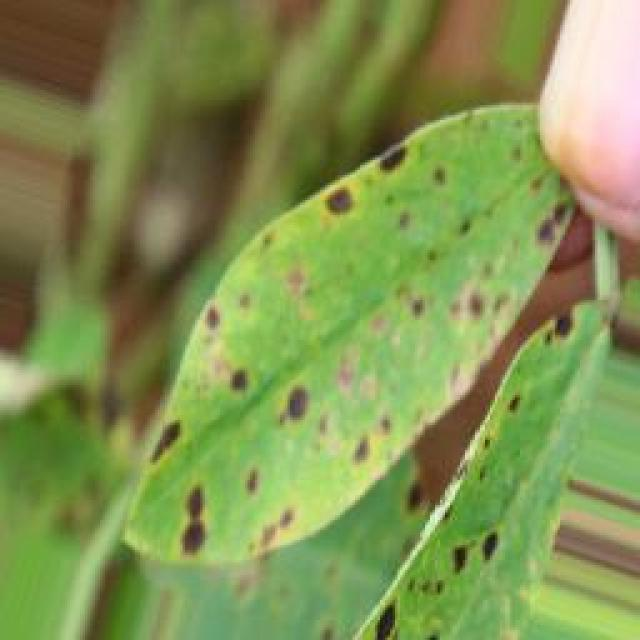Yellowish: (111, 62, 597, 640)
